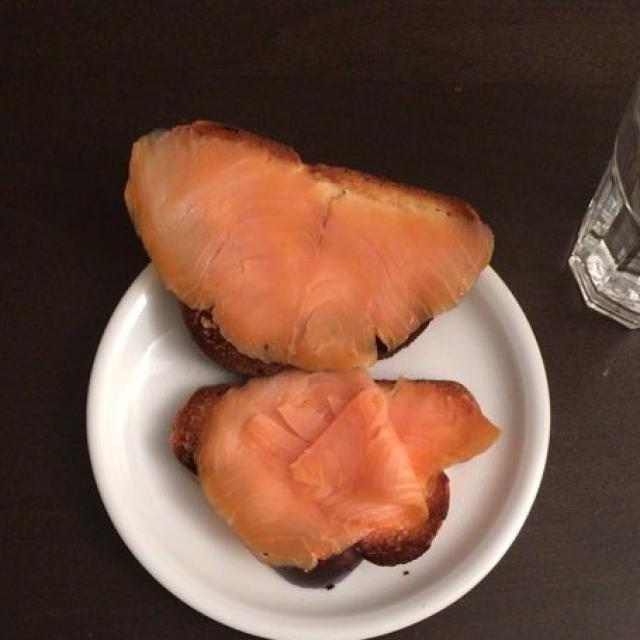bread: (133, 123, 492, 551)
salmon: (162, 136, 489, 562)
